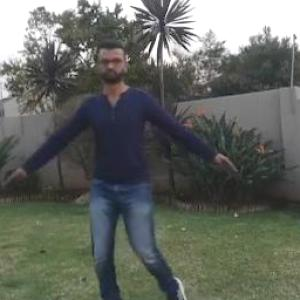land: (54, 67, 206, 254)
